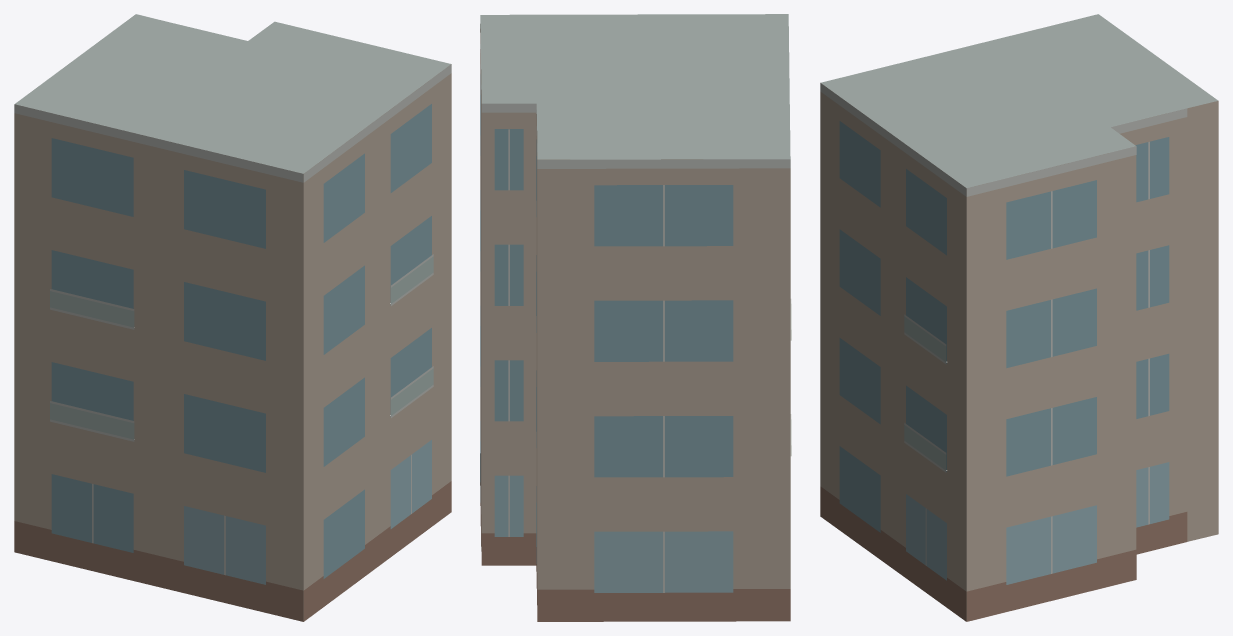
The model's file is residential-cee5d774-6ea7-48a9-ac48-6c5397abd492.glb.
3 views of the same model, side by side, from view 1: azimuth 30°, elevation 25°; view 2: azimuth 150°, elevation 25°; view 3: azimuth 270°, elevation 25° (orthographic). The views are drawn at different scales.
Parts seen in each view (by area): view 1: residential-cee5d774-6ea7-48a9-ac48-6c5397abd492.tmp; view 2: residential-cee5d774-6ea7-48a9-ac48-6c5397abd492.tmp; view 3: residential-cee5d774-6ea7-48a9-ac48-6c5397abd492.tmp.
Part boxes in pixels (x1,y1,x2,y2): residential-cee5d774-6ea7-48a9-ac48-6c5397abd492.tmp: (14,14,451,621); residential-cee5d774-6ea7-48a9-ac48-6c5397abd492.tmp: (480,14,791,621); residential-cee5d774-6ea7-48a9-ac48-6c5397abd492.tmp: (820,14,1218,621).
Size of the model in its own units: 10.52 by 12.2 by 10.16.
